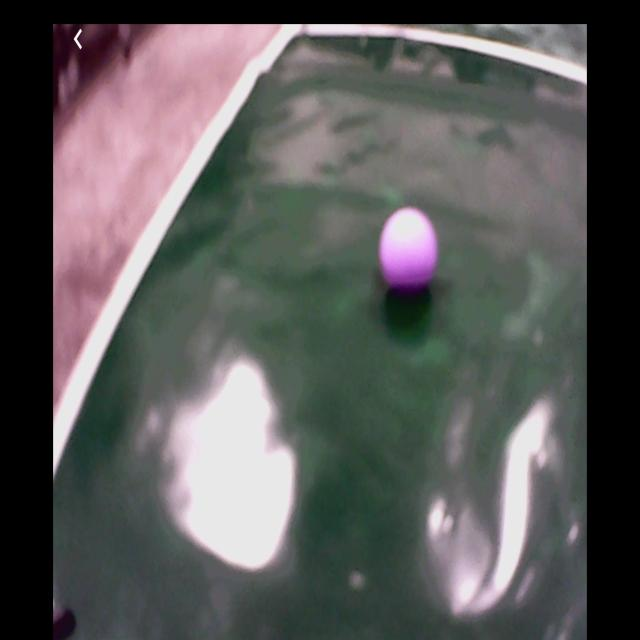ball: (378, 205, 440, 293)
